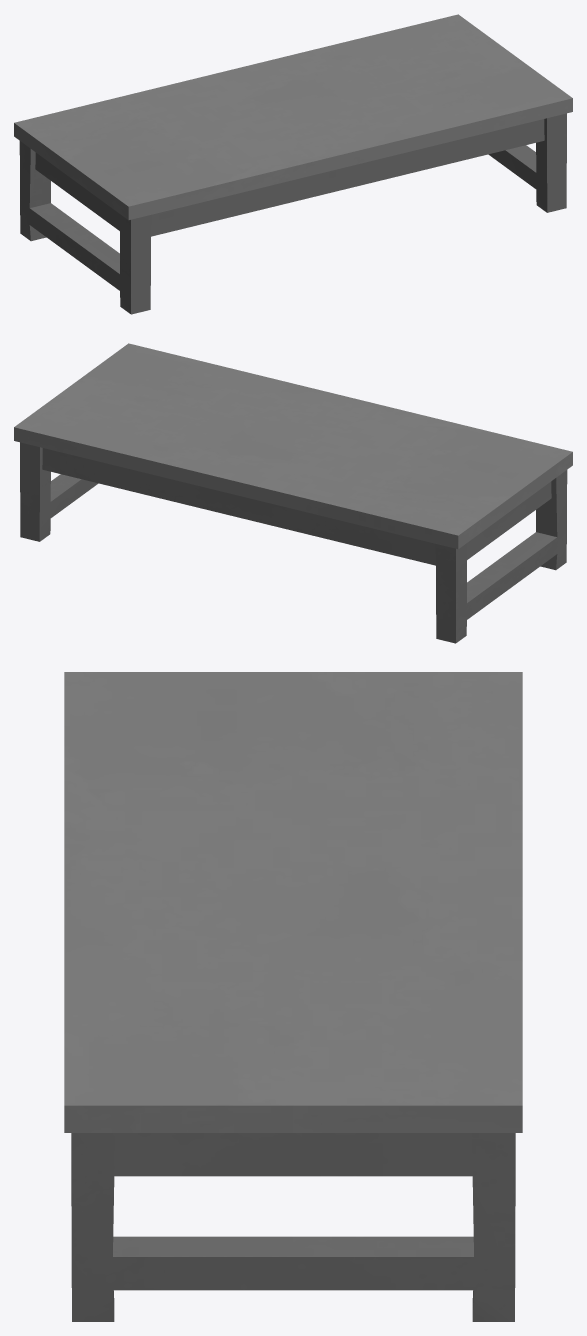
The model's file is Pfb_Table__3.fbx.
3 views of the same model, one above another, from view 1: azimuth 30°, elevation 25°; view 2: azimuth 150°, elevation 25°; view 3: azimuth 270°, elevation 25° (orthographic). The views are drawn at different scales.
Visible parts, largest first — view 1: Mat_Table_02_White_JLAB; view 2: Mat_Table_02_White_JLAB; view 3: Mat_Table_02_White_JLAB.
Part boxes in pixels (x1=…): Mat_Table_02_White_JLAB: x1=14, y1=14, x2=572, y2=314; Mat_Table_02_White_JLAB: x1=14, y1=343, x2=572, y2=643; Mat_Table_02_White_JLAB: x1=64, y1=672, x2=522, y2=1321.
Bounding box in the file's own units: 2.78 × 0.6588 × 1.24.
1 material, 1 textured.
